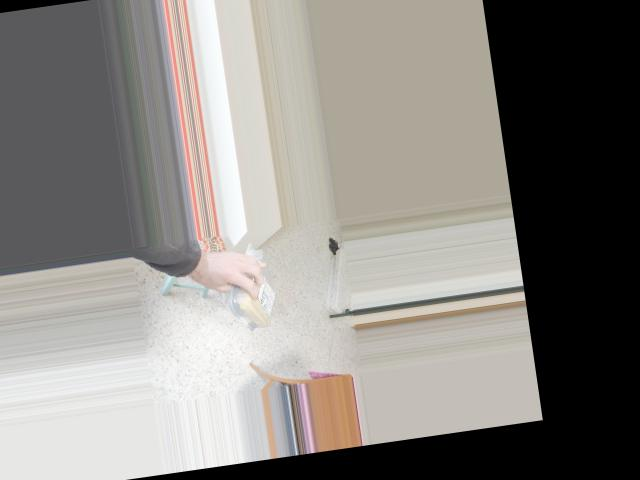cheese: (231, 264, 281, 334)
